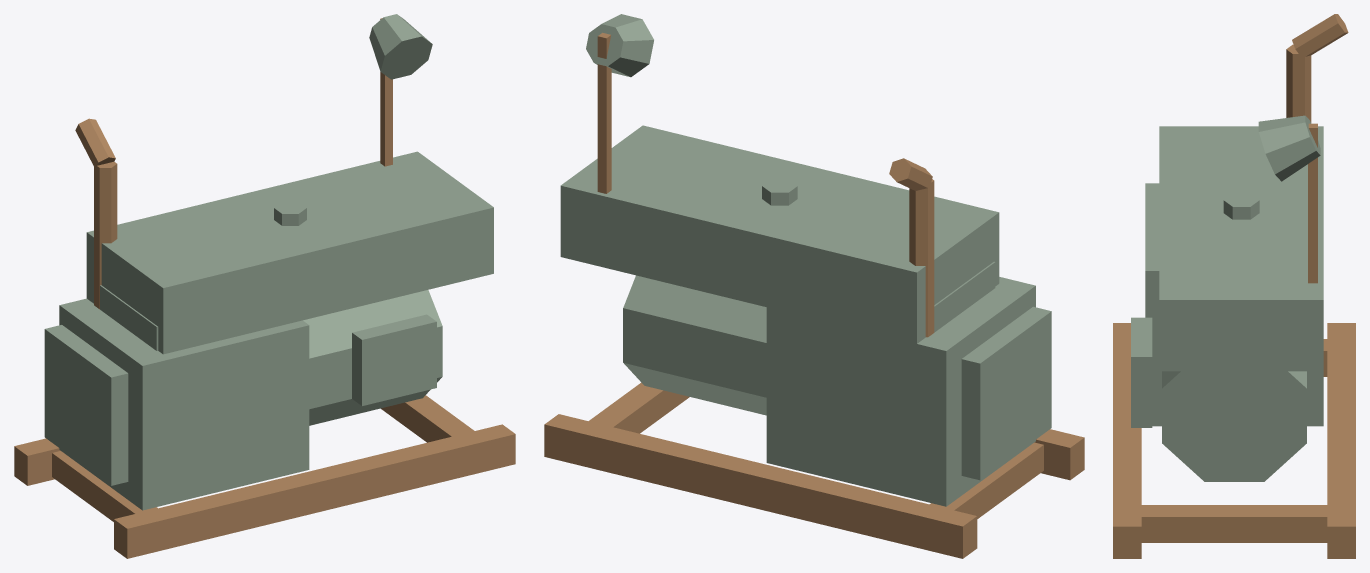
File: generator.glb
3 views of the same model, side by side, from view 1: azimuth 30°, elevation 25°; view 2: azimuth 150°, elevation 25°; view 3: azimuth 270°, elevation 25° (orthographic). The views are drawn at different scales.
Visible parts, largest first — view 1: body, frame; view 2: body, frame; view 3: body, frame.
Part boxes in pixels (<box>): body: <box>44,14,493,510</box>; frame: <box>14,18,515,558</box>; body: <box>560,14,1051,506</box>; frame: <box>544,32,1084,558</box>; body: <box>1131,115,1323,481</box>; frame: <box>1113,14,1355,558</box>.
Bounding box in the file's own units: 1.35 × 1.3 × 0.68.
